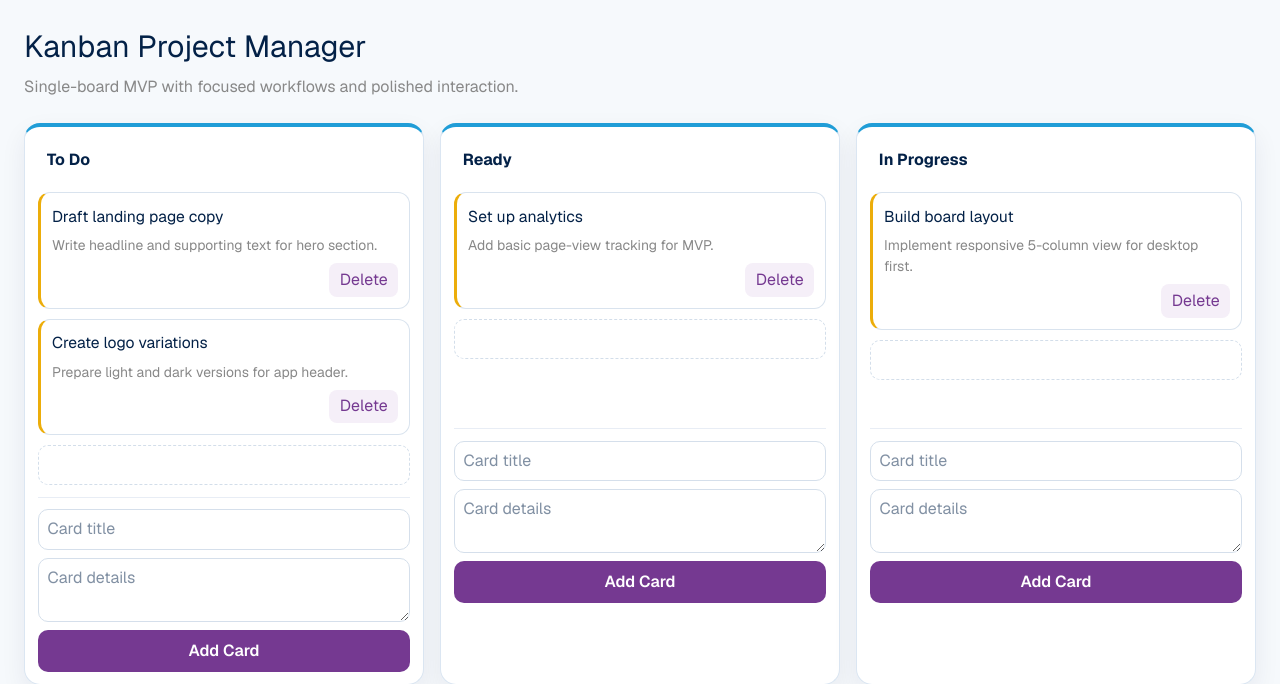
Test: KanbanBoard › adds and deletes a card
Type "Add CI badge" into the field named "Card title for To Do" at (224, 530), box left=38, top=509, right=410, bottom=550
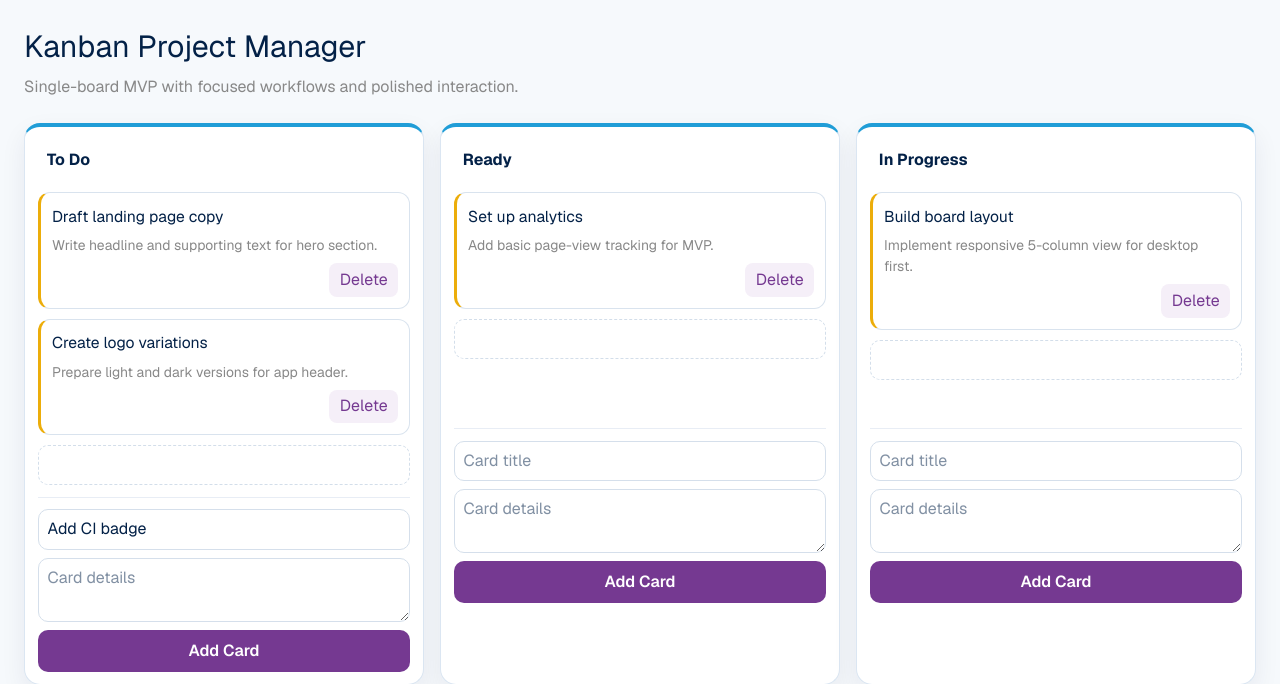
Type "Put a passing badge in README." into the text box named "Card details for To Do" at (224, 590), box left=38, top=558, right=410, bottom=622
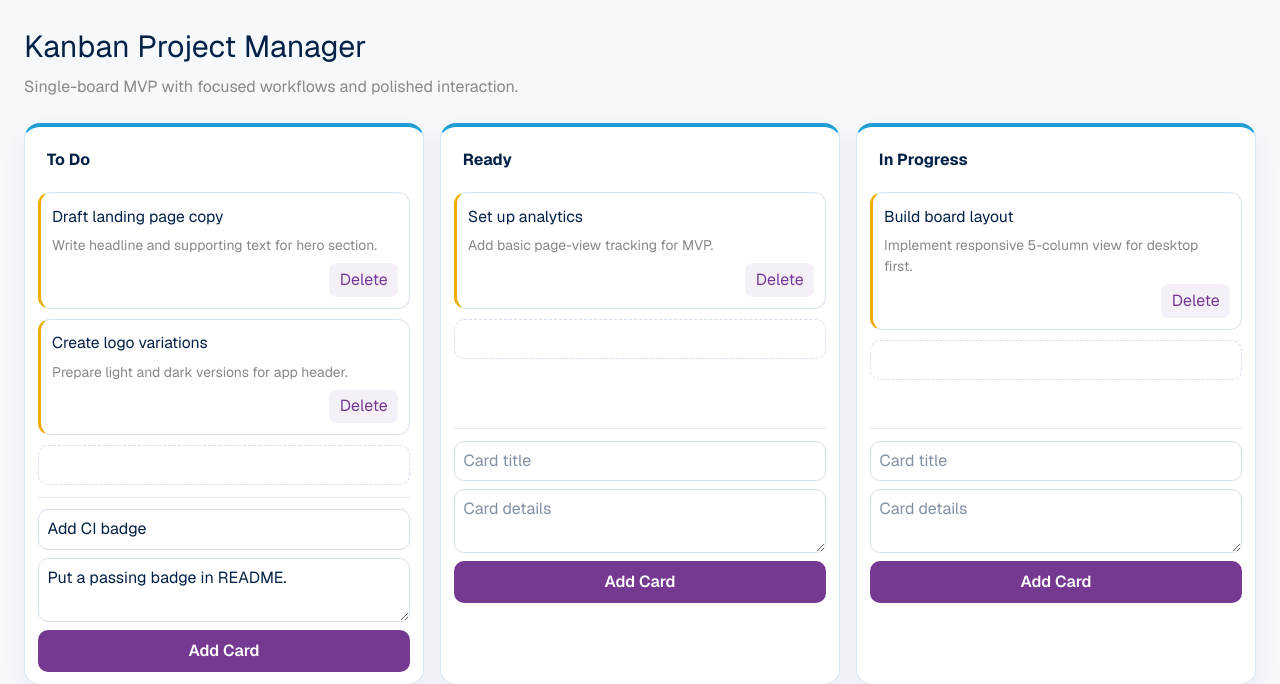
Click the 3rd button "Add Card" at (224, 651), box left=38, top=630, right=410, bottom=672
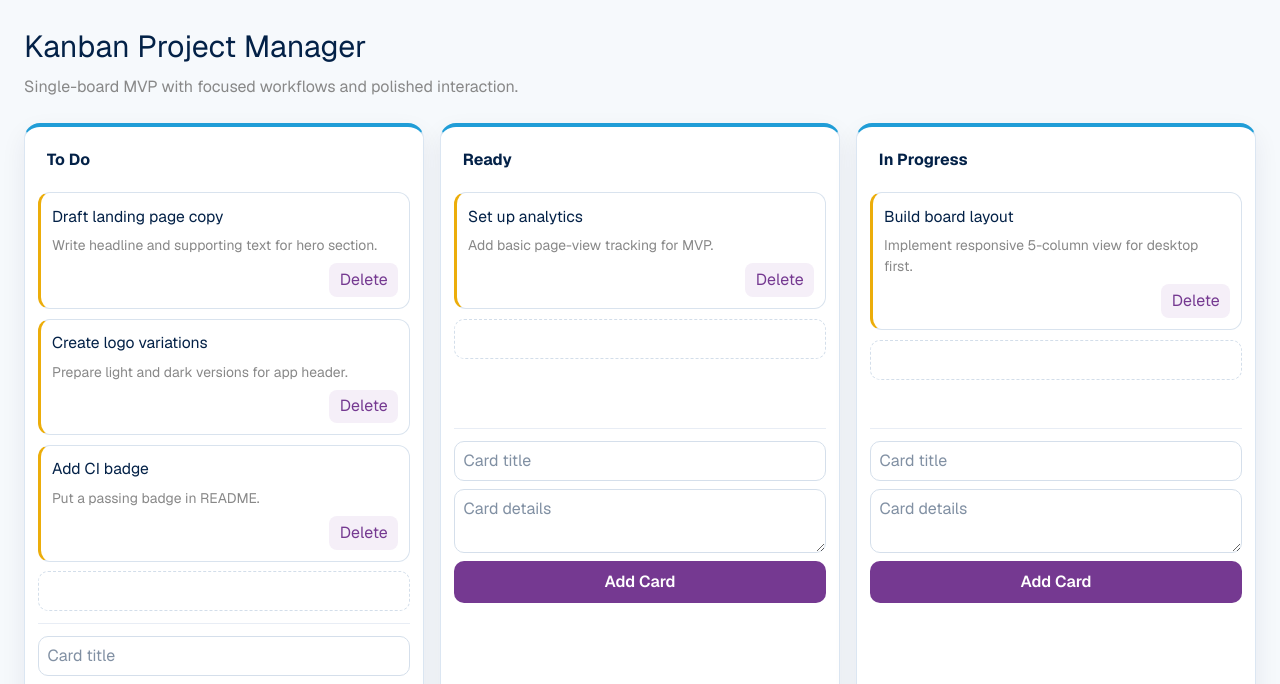
Check: the heading "Add CI badge" is shown, box left=52, top=458, right=149, bottom=479
Click the button with aria-label "Delete Add CI badge" at (364, 533), box left=329, top=516, right=398, bottom=550
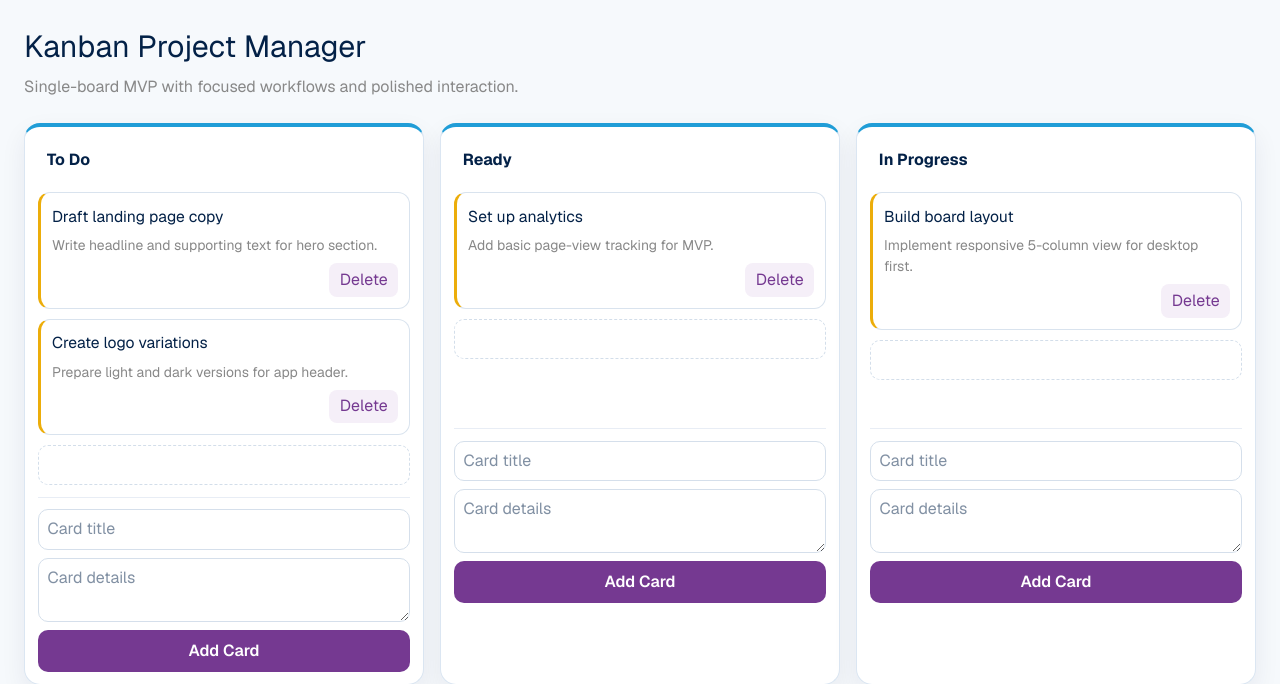
Check: the button "Add CI badge" is gone
